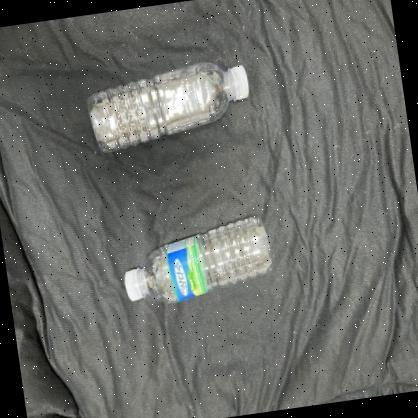bottle: (82, 53, 260, 155), (118, 216, 278, 310)
cap: (227, 64, 251, 101), (125, 268, 148, 302)
label: (162, 234, 206, 302)
